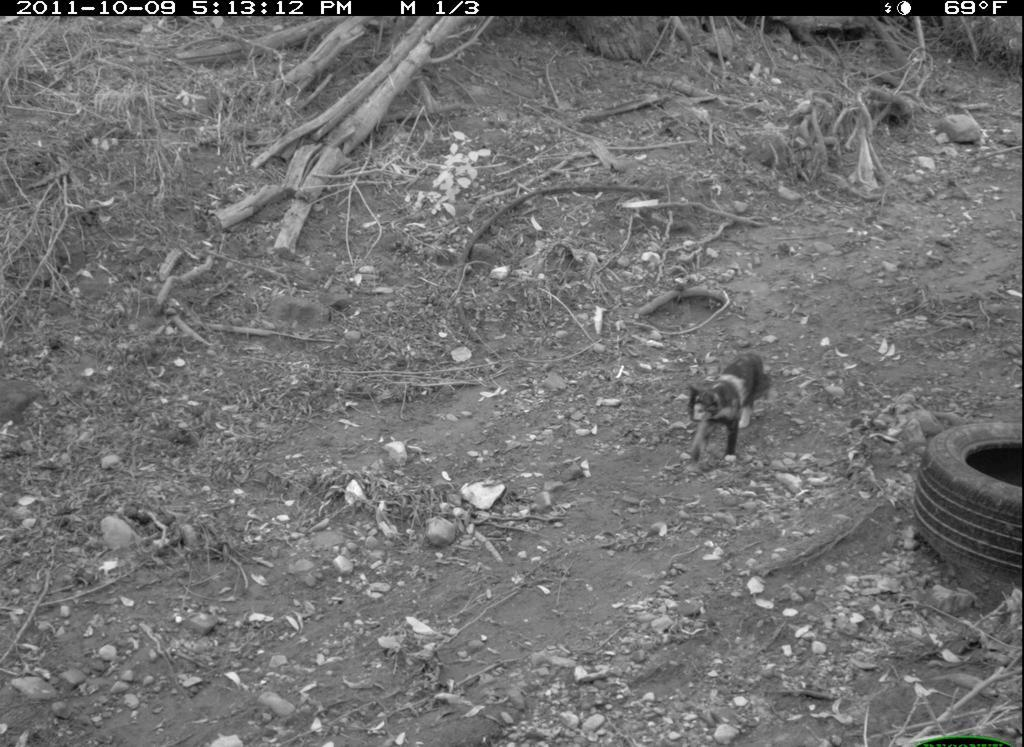cat: (669, 341, 802, 487)
